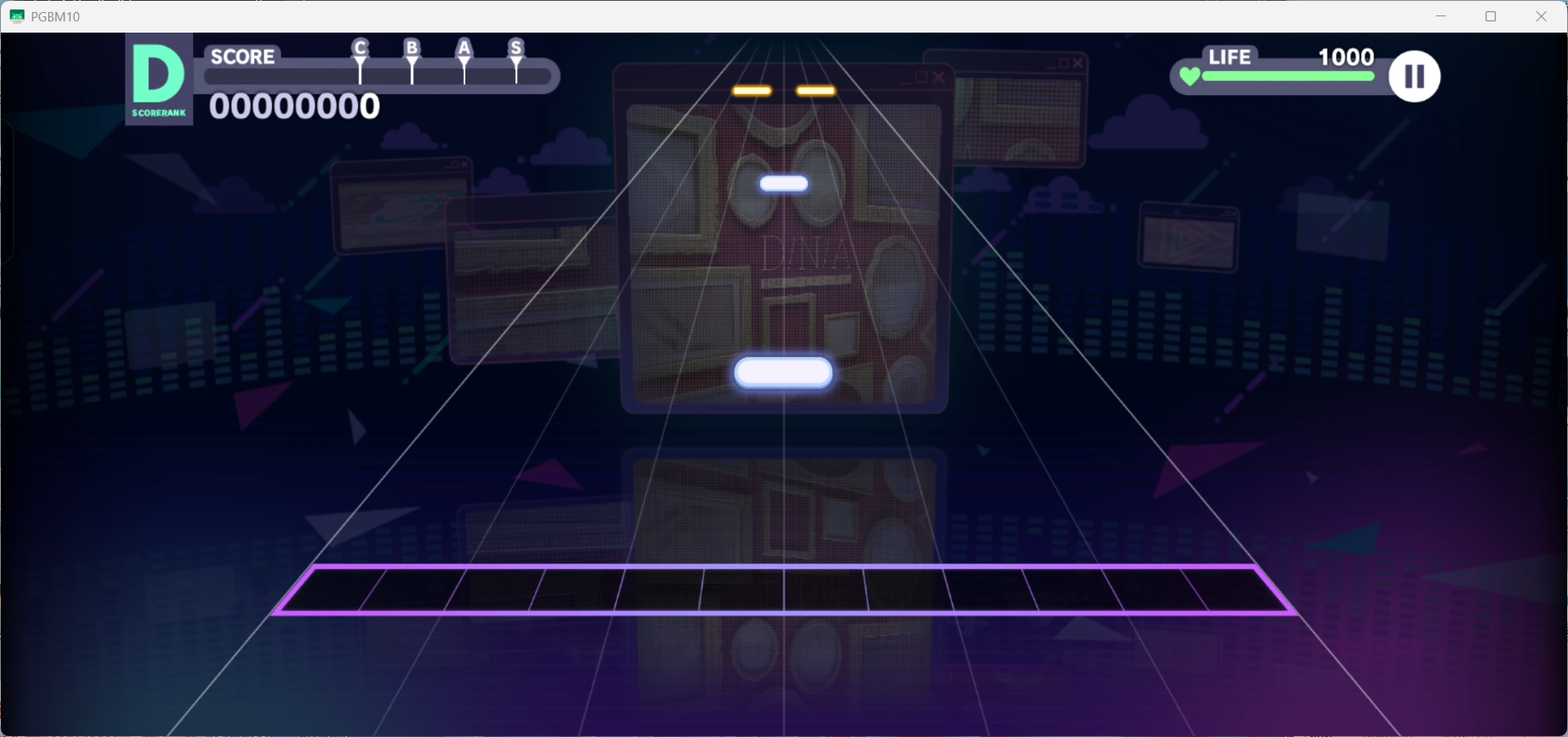tap: (734, 356, 833, 392), (760, 176, 807, 193), (732, 86, 770, 95), (797, 87, 834, 95)
